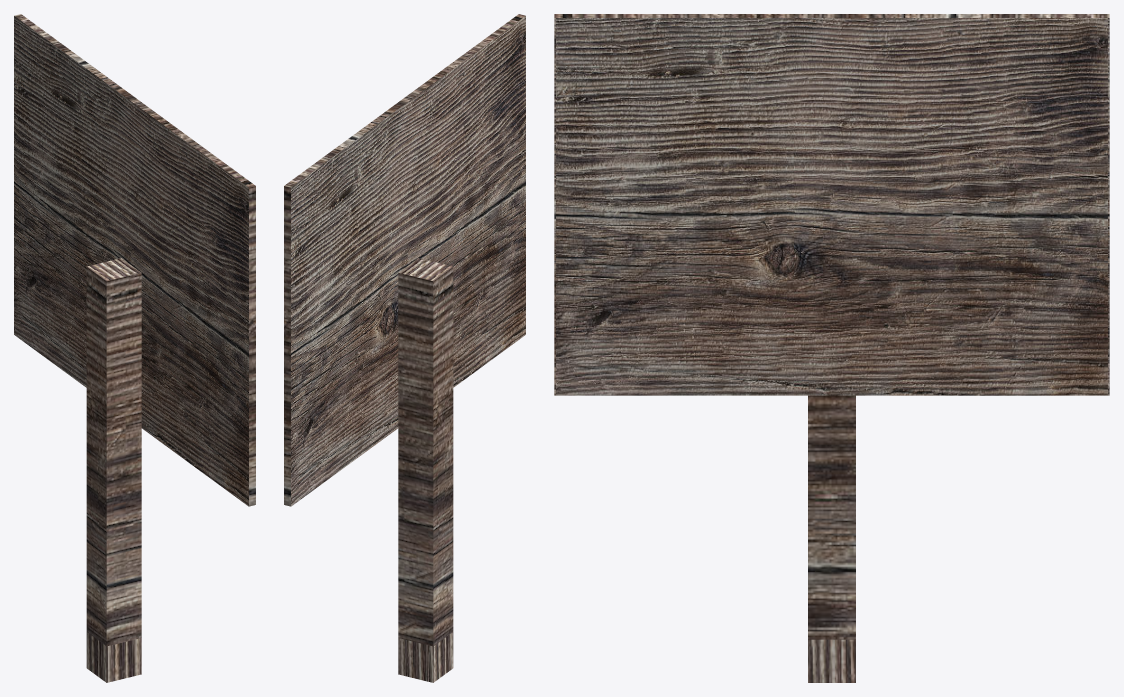
File: sign.fbx
3 renders of one model, left to right at view 1: azimuth 30°, elevation 25°; view 2: azimuth 150°, elevation 25°; view 3: azimuth 270°, elevation 25°, orthographic. The views are drawn at different scales.
Visible parts, largest first — view 1: Cube; view 2: Cube; view 3: Cube.
Boxes of the visible parts, <box> form: Cube: <box>14,14,255,682</box>; Cube: <box>284,14,525,682</box>; Cube: <box>554,14,1109,682</box>.
Bounding box in the file's own units: 58.26 × 77.42 × 6.
Materials: 1 (1 with a texture image).
